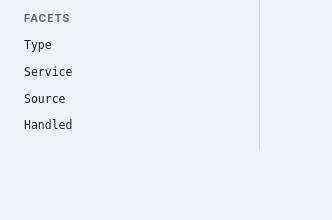
Test case: ErrorFacets › expands a field to show its values with counts
Click the button "Type": (136, 46) left=12, top=32, right=259, bottom=59
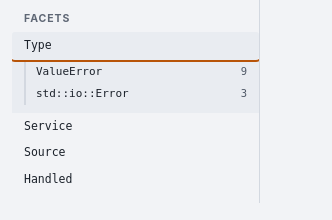
Expected: the text "ValueError" is shown, left=36, top=65, right=102, bottom=78
Expected: the text "std::io::Error" is shown, left=36, top=87, right=129, bottom=100
Expected: the text "9" is shown, left=241, top=64, right=247, bottom=79
